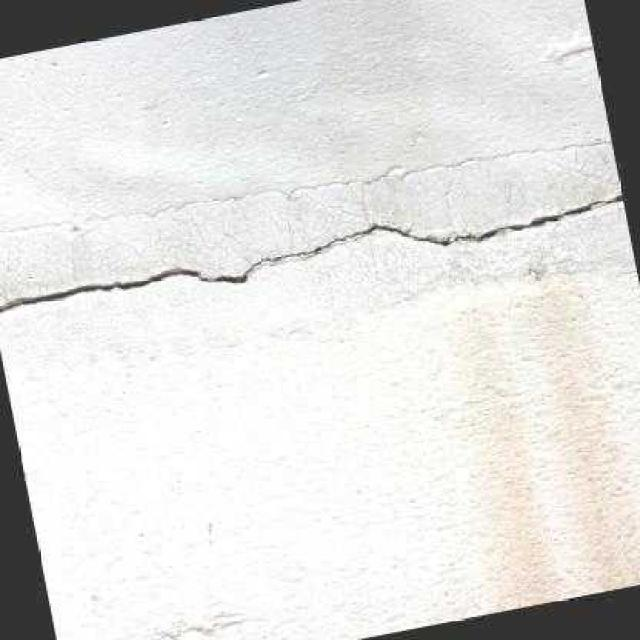D00: (0, 190, 622, 310)
